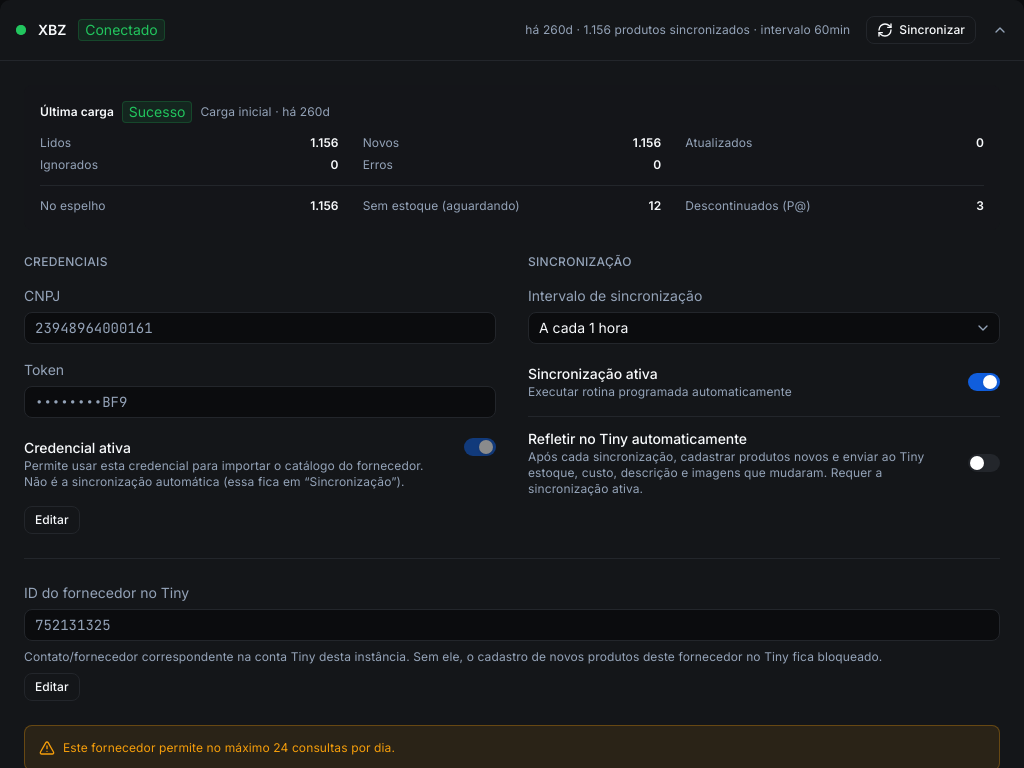
Test: FornecedorAcordeao › permite digitar nas credenciais após clicar em Editar
The width and height of the screenshot is (1024, 768).
Click the button "Editar" below "Credencial ativa". click: click(52, 520)
box: 24,506 -> 80,534
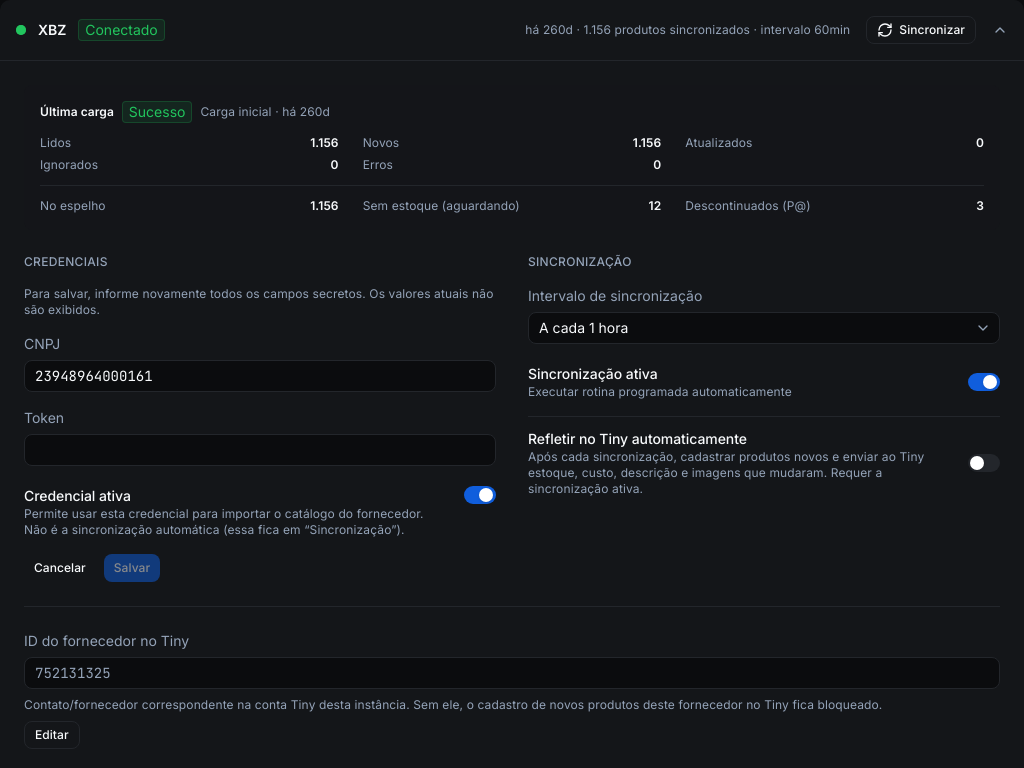
Replace the text in the field labelled "CNPJ" with "11222333000181". click: (260, 376)
box: 24,360 -> 496,392
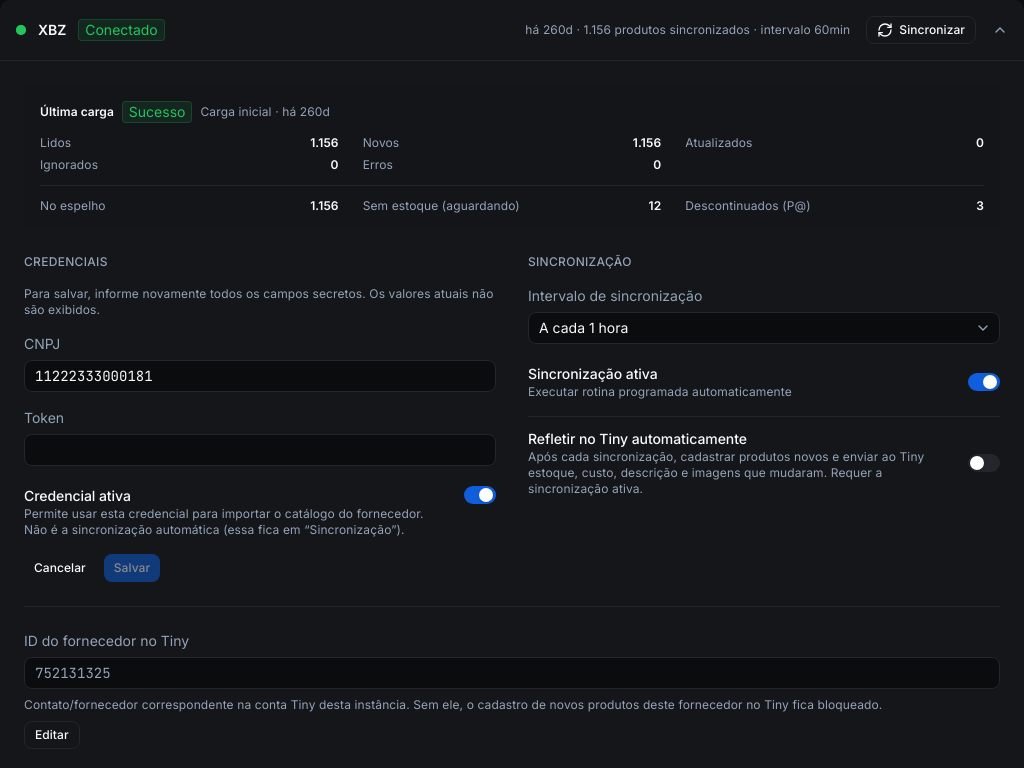
Type "token-ficticio-de-teste" into the password field labelled "Token". click: (260, 450)
box: 24,434 -> 496,466
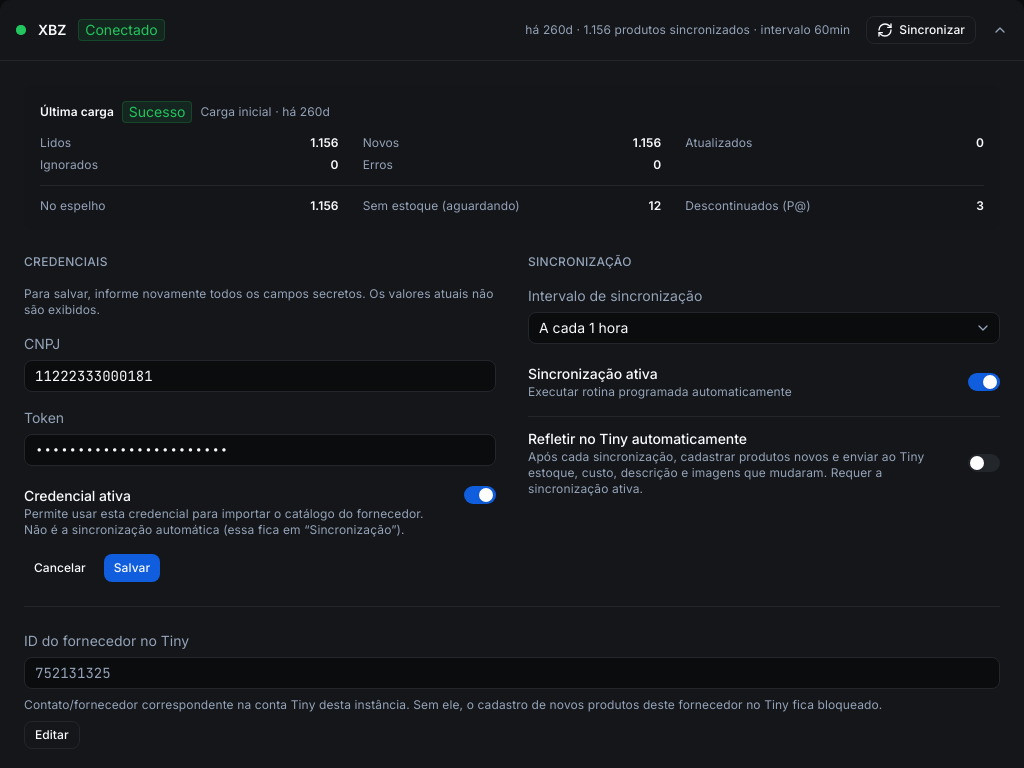
Expected: the button "Salvar" is enabled, 104,554 -> 160,582
